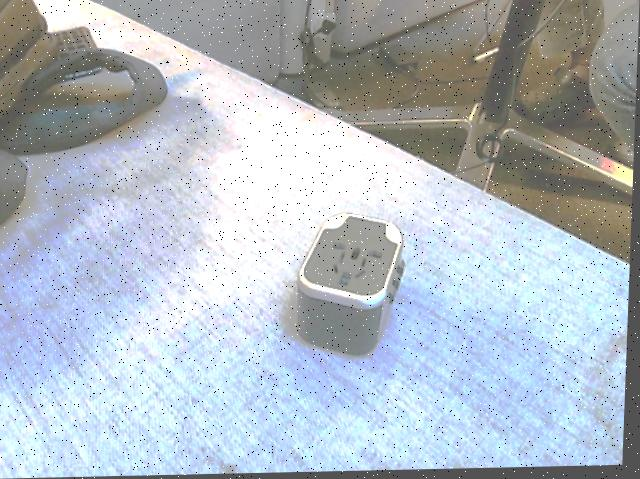adapter: (296, 211, 409, 358)
